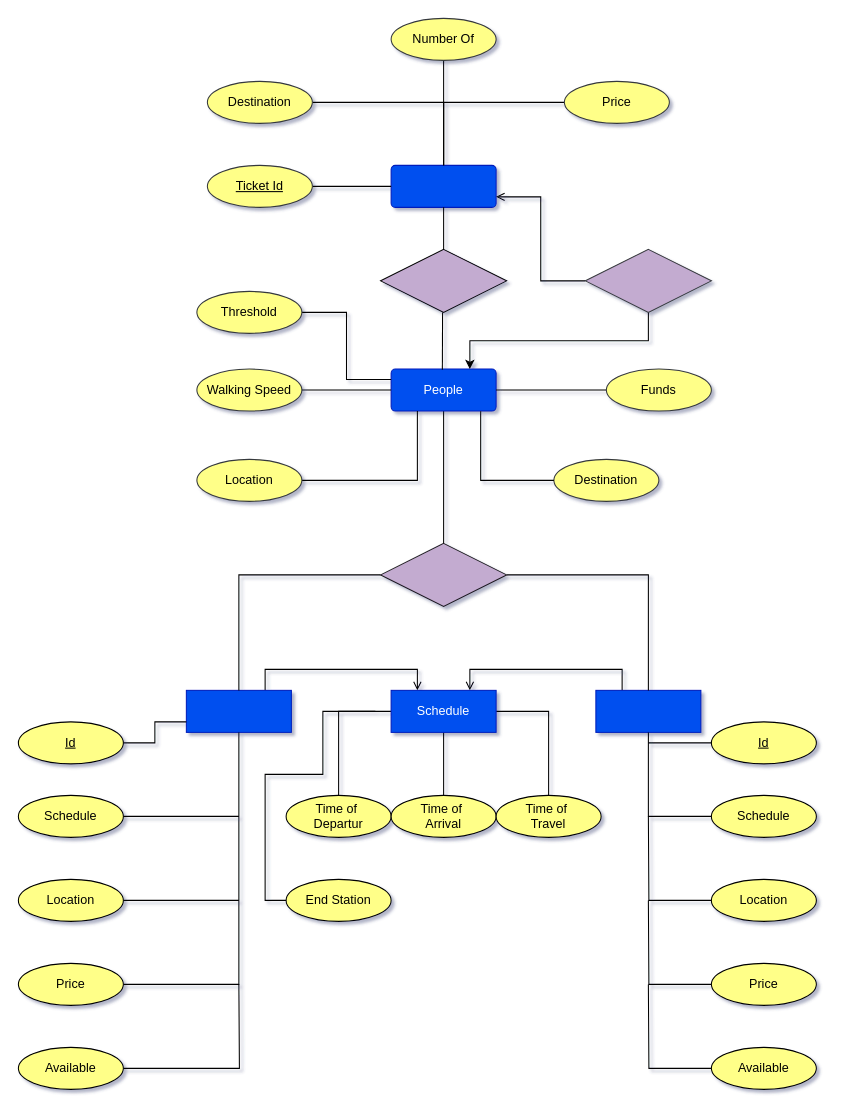
Image size: 841x1114. Some labels were removed from this diagram. The centre of each missing label's shape, as x and y in pixels:
Bus Stations: the point at 648,710
Buy: the point at 443,280
Ownes: the point at 647,280
Preferences: the point at 443,574
Ticket: the point at 443,185
Train Station: the point at 238,710
